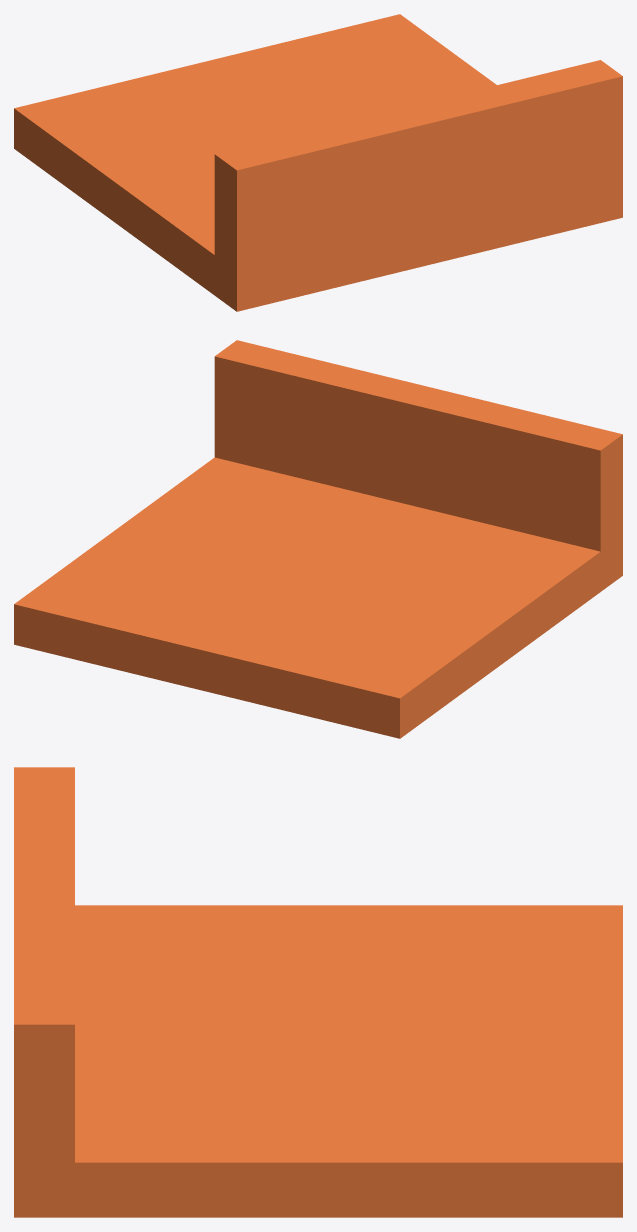
The model's file is OrangeRoof_1Edge_small.glb.
The picture shows the model from 3 angles, top to bottom: view 1: azimuth 30°, elevation 25°; view 2: azimuth 150°, elevation 25°; view 3: azimuth 270°, elevation 25°; orthographic projection. The views are drawn at different scales.
Parts seen in each view (by area): view 1: roof_flat_1Edges_small_orange; view 2: roof_flat_1Edges_small_orange; view 3: roof_flat_1Edges_small_orange.
Boxes of the visible parts, left/top/right/bottom form: roof_flat_1Edges_small_orange: left=14, top=14, right=622, bottom=311; roof_flat_1Edges_small_orange: left=14, top=340, right=622, bottom=738; roof_flat_1Edges_small_orange: left=14, top=767, right=622, bottom=1217.
Size of what is drawn, in the model's own units: 2 by 0.7 by 2.
Materials: 1 (1 with a texture image).
